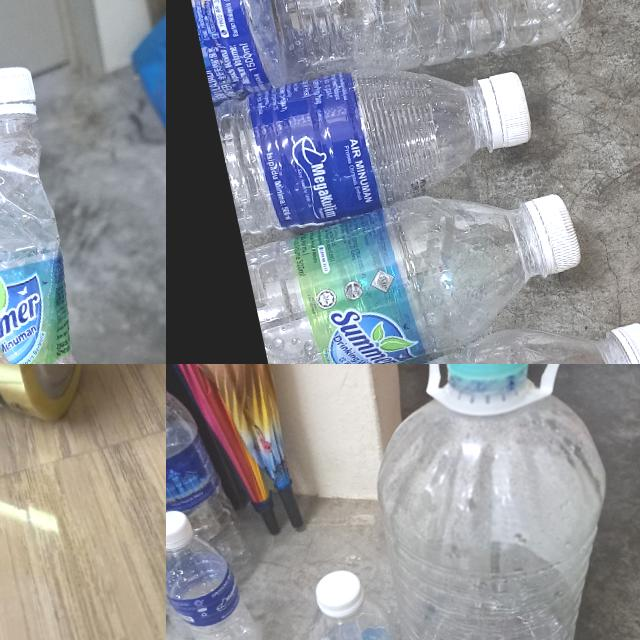bateria: (0, 364, 114, 473)
garrafa plástica: (352, 364, 640, 640), (240, 170, 567, 364), (212, 44, 498, 242), (172, 0, 605, 113), (0, 102, 129, 364), (272, 306, 640, 364), (166, 372, 255, 584), (166, 525, 266, 640), (302, 594, 422, 640), (166, 507, 194, 640)
tampa plástica: (524, 189, 586, 278), (436, 364, 542, 407), (486, 68, 536, 148), (312, 564, 370, 619), (0, 60, 42, 132), (607, 315, 640, 364), (166, 507, 196, 552)
